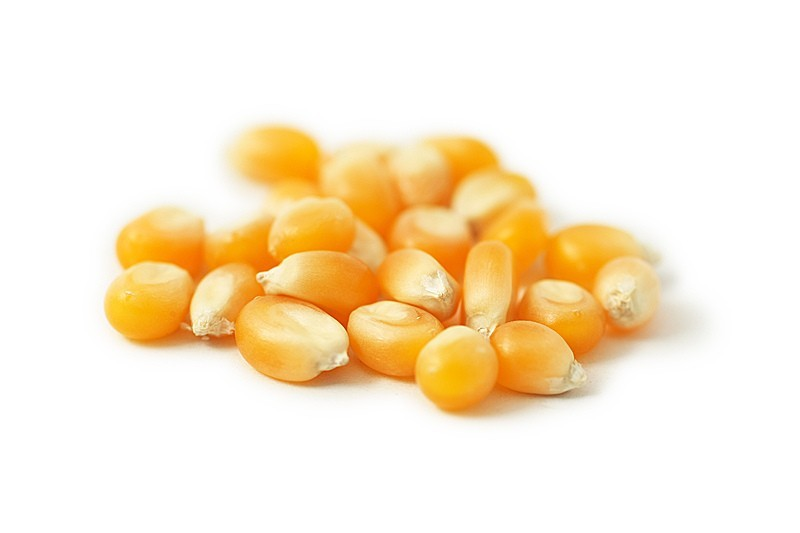corn: (237, 289, 353, 389), (257, 252, 378, 336), (489, 318, 594, 398), (412, 325, 501, 416), (107, 259, 194, 350), (378, 245, 464, 316), (189, 266, 262, 334)
